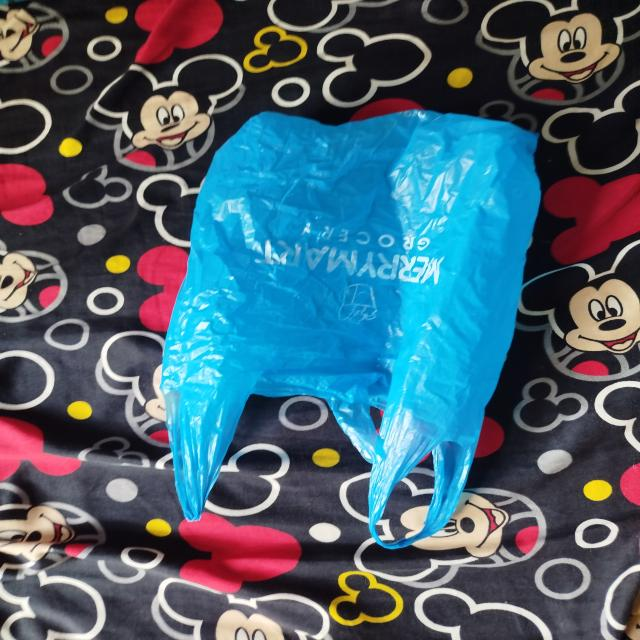residual: (150, 101, 546, 567)
